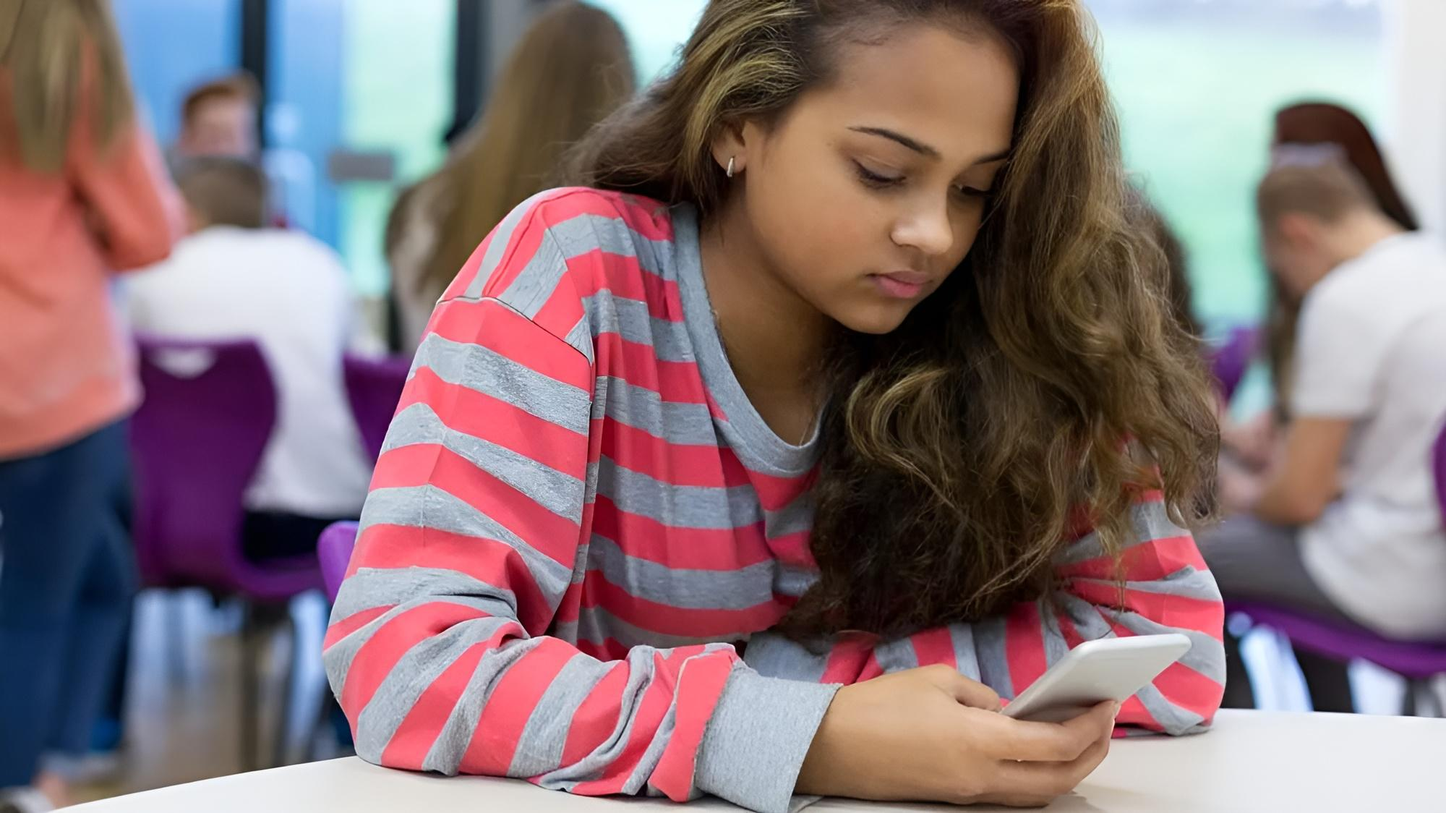phone: (331, 0, 1231, 813)
